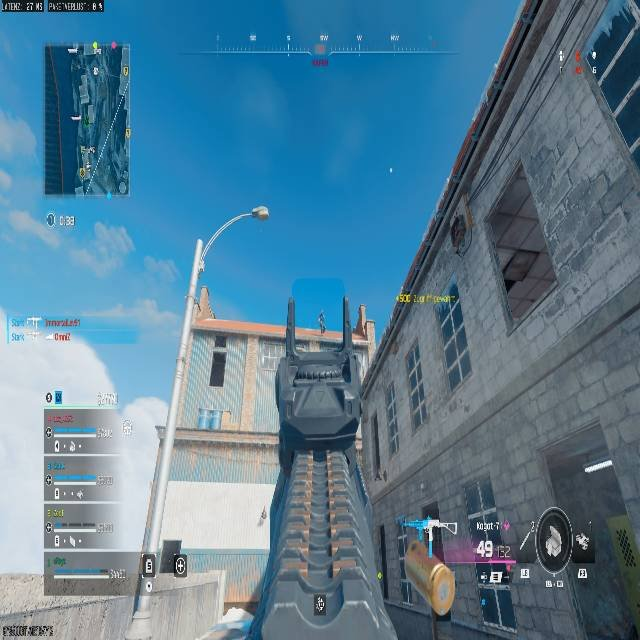player: (402, 541, 457, 620), (337, 344, 353, 384), (317, 311, 326, 333)
